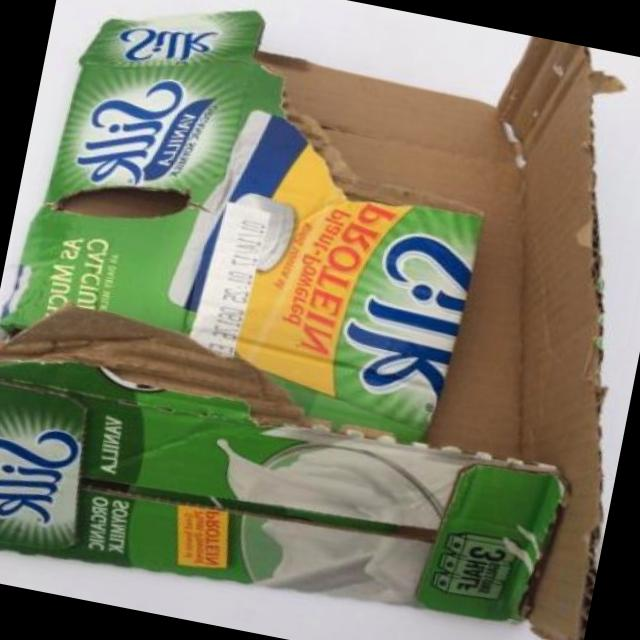cardboard paper: (0, 11, 627, 640)
